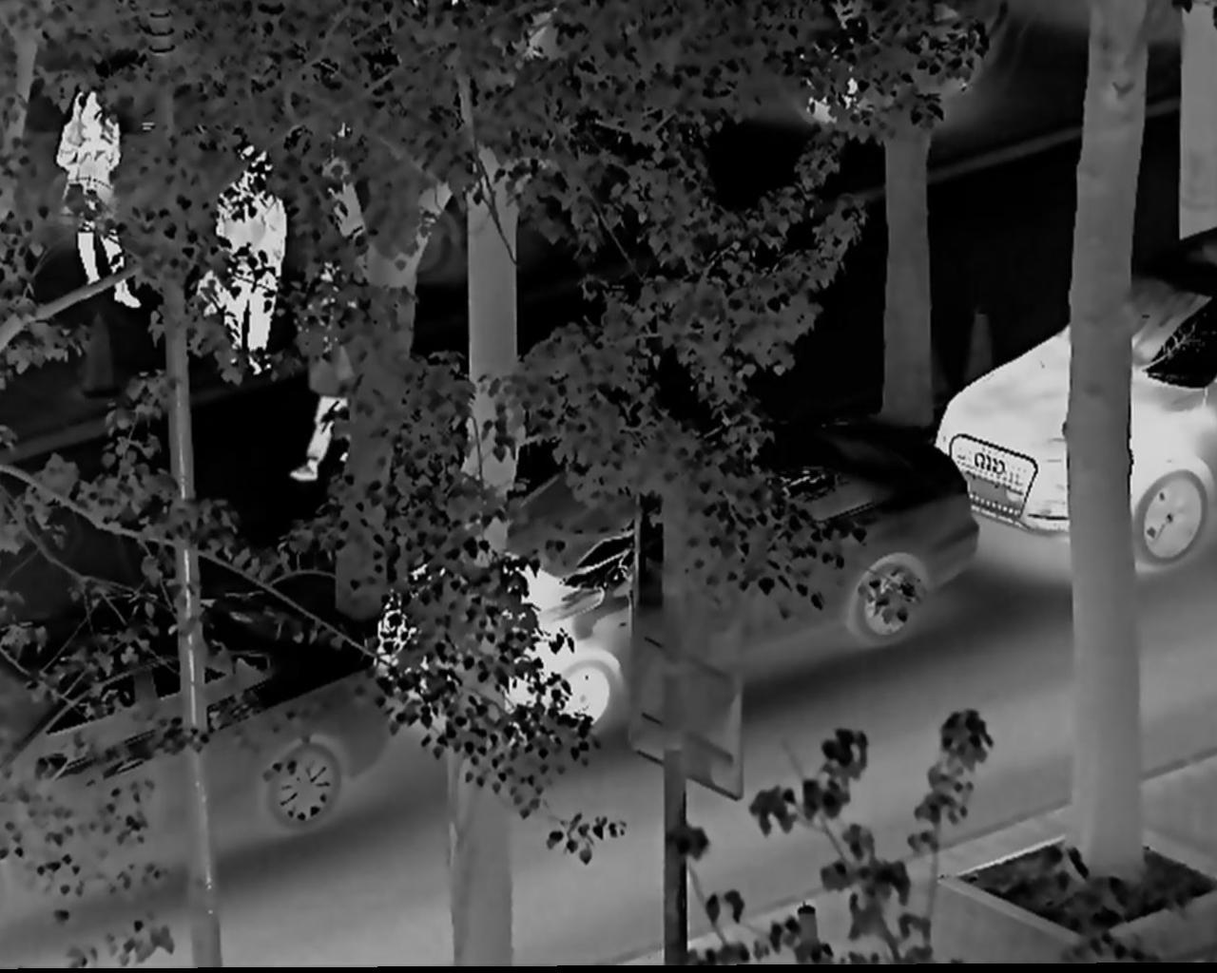person: (45, 80, 143, 313), (206, 140, 292, 391), (288, 264, 358, 484)
